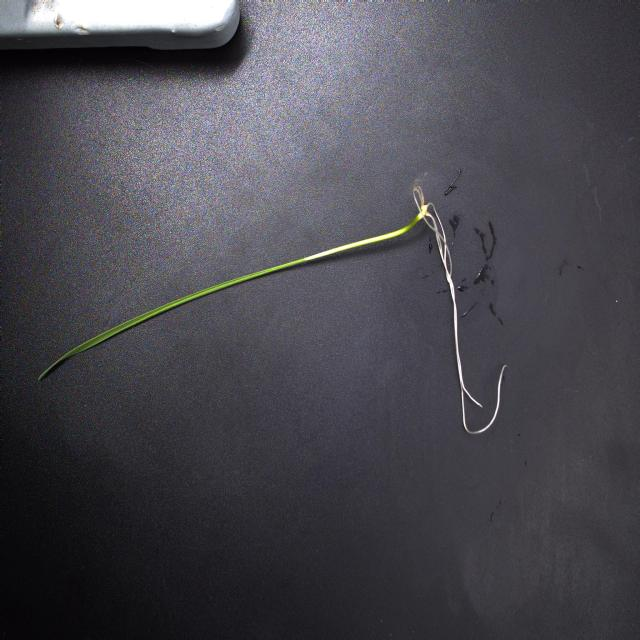leaf: (38, 252, 306, 384)
root: (406, 183, 513, 435)
stem: (304, 215, 419, 266)
